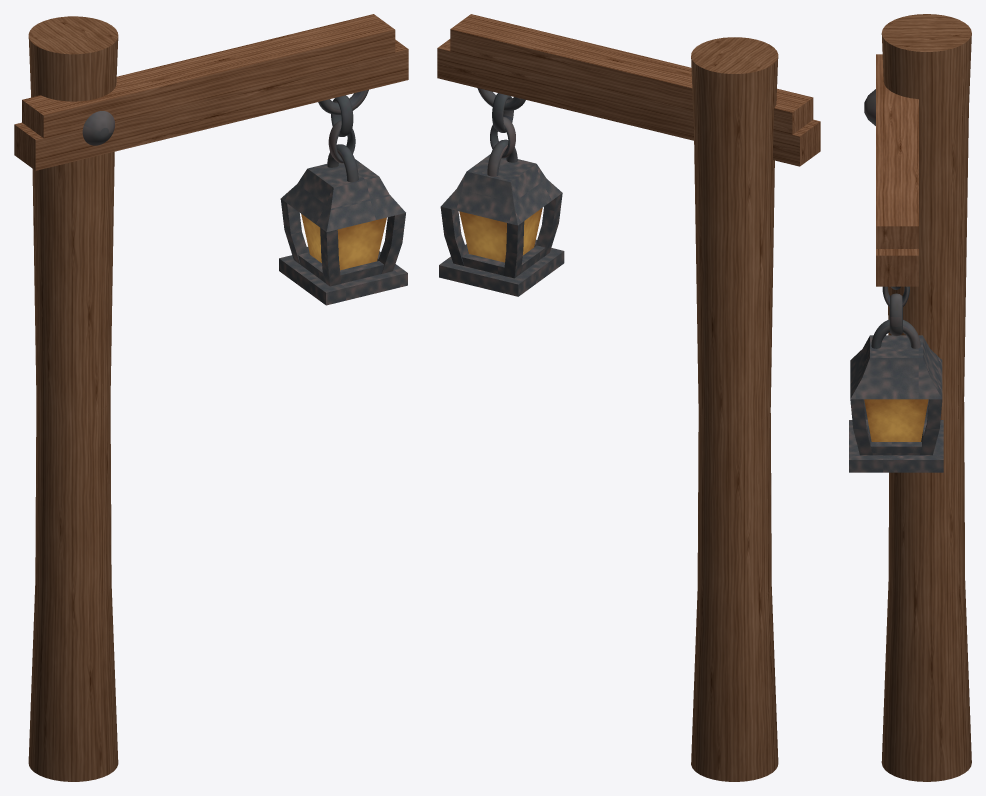
The model's file is Lamp.glb.
The picture shows the model from 3 angles, left to right: view 1: azimuth 30°, elevation 25°; view 2: azimuth 150°, elevation 25°; view 3: azimuth 270°, elevation 25°; orthographic projection. The views are drawn at different scales.
Visible parts, largest first — view 1: Lamp; view 2: Lamp; view 3: Lamp.
Part boxes in pixels (box(x1,y1,x2,y2)): Lamp: box(14, 14, 408, 781); Lamp: box(437, 14, 820, 781); Lamp: box(849, 14, 971, 781).
Bounding box in the file's own units: 3.27 × 6.1 × 0.9303.
Materials: 3 (3 with a texture image).
